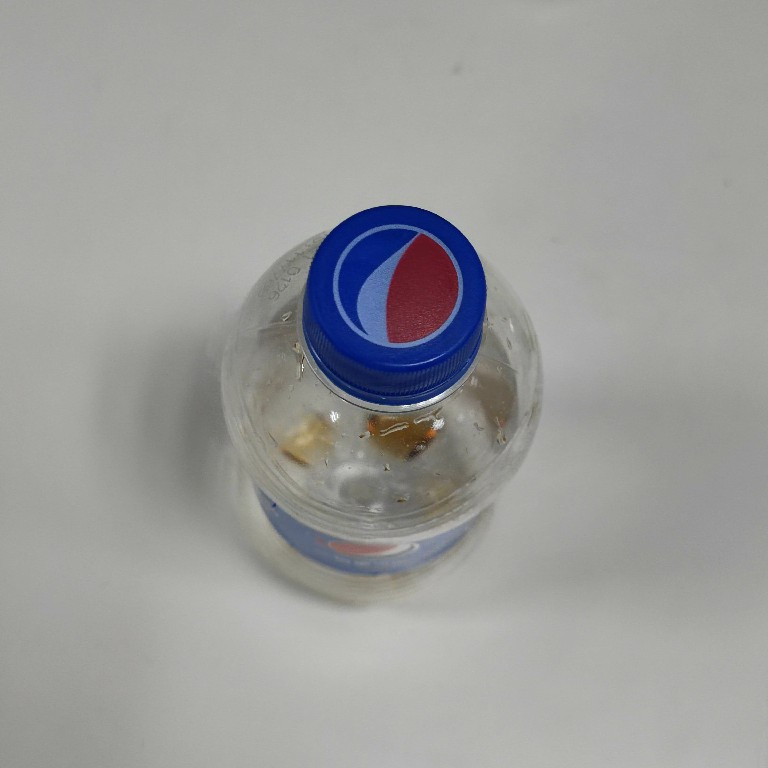bottle: (213, 196, 550, 617)
